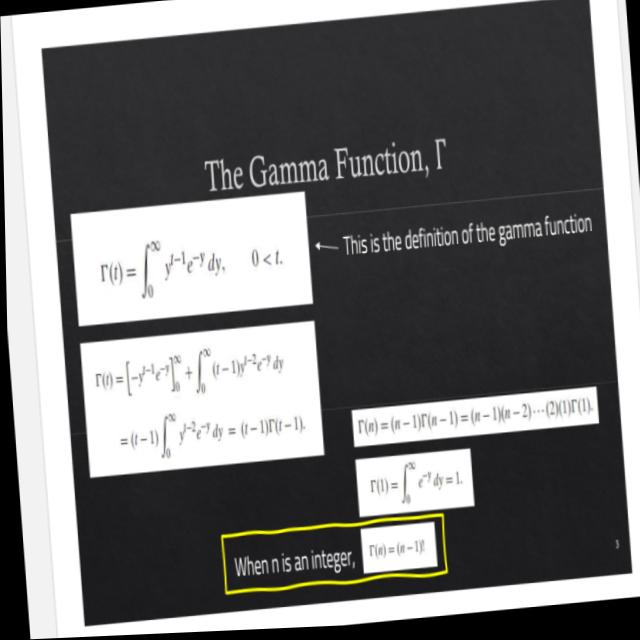equations: (89, 333, 310, 467), (93, 225, 286, 311), (353, 397, 590, 444), (362, 459, 464, 515), (362, 534, 426, 568)
